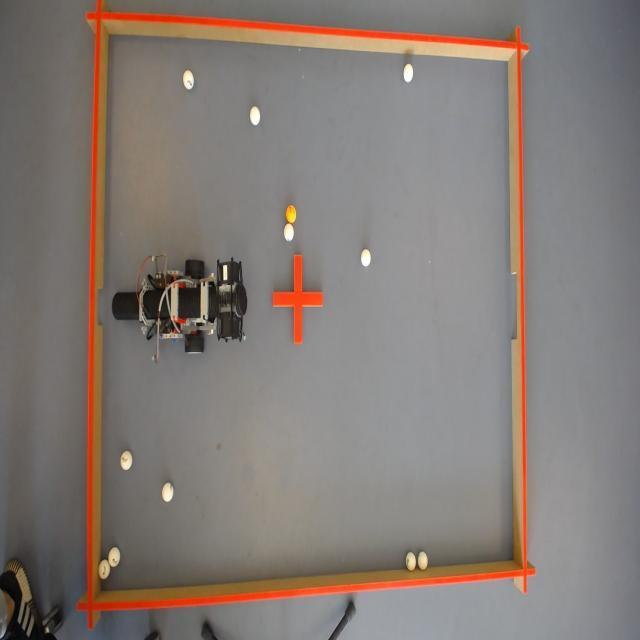orange: (286, 204, 298, 222)
robot: (111, 255, 252, 356)
white: (183, 68, 196, 92), (96, 560, 110, 580), (108, 547, 121, 567), (250, 105, 262, 126), (162, 480, 174, 501), (120, 448, 132, 469), (404, 551, 416, 571), (414, 549, 426, 569), (361, 248, 372, 268), (403, 62, 414, 82), (286, 224, 294, 242)
